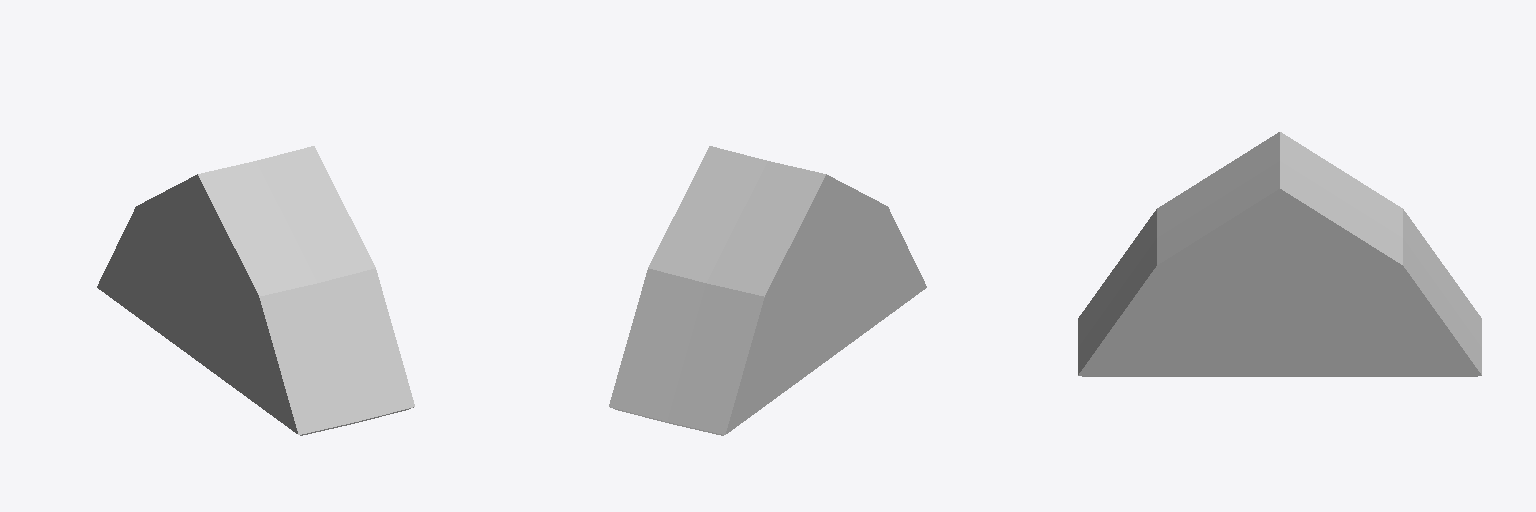
The model's file is cap.obj.
The picture shows the model from 3 angles: view 1: azimuth 30°, elevation 25°; view 2: azimuth 150°, elevation 25°; view 3: azimuth 270°, elevation 25°; orthographic projection.
Visible parts, largest first — view 1: cap_Sphere.011; view 2: cap_Sphere.011; view 3: cap_Sphere.011.
Part boxes in pixels (x1,y1,x2,y2): cap_Sphere.011: (97, 146, 414, 435); cap_Sphere.011: (609, 146, 926, 435); cap_Sphere.011: (1078, 132, 1481, 376).
Bounding box in the file's own units: 1.03 × 1.63 × 3.1.